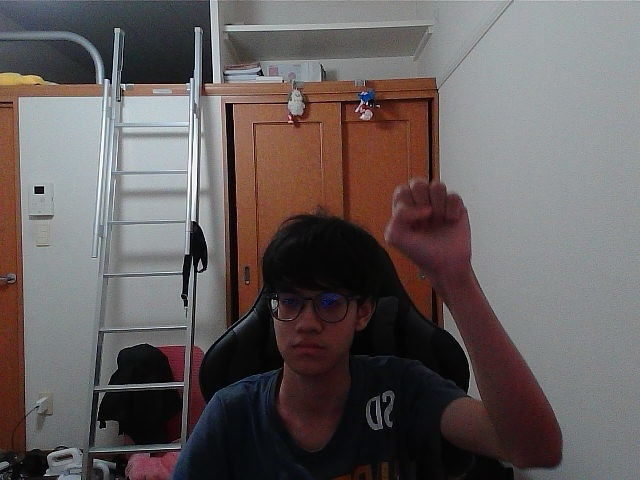closed_palm: (399, 184, 456, 266)
